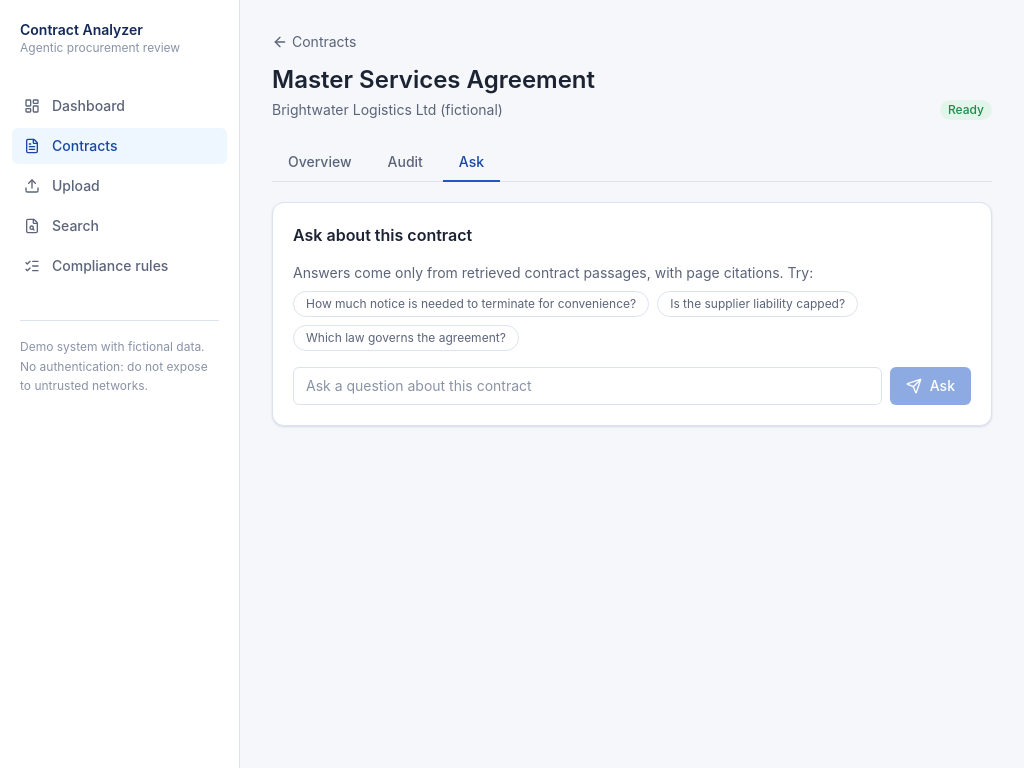
Test case: Ask tab › renders a grounded answer with citation chips
In the field labelled "question": (587, 386) [293,367,882,405], type "How much notice is needed?"
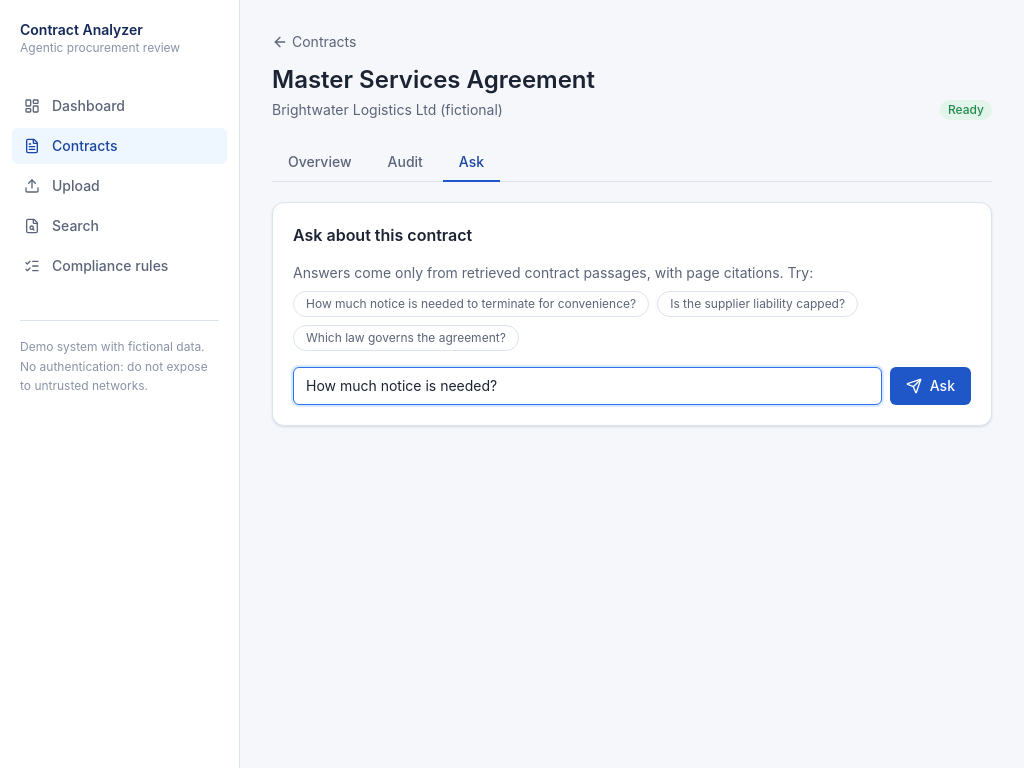
Click the button "Ask": (930, 386) [890,367,971,405]
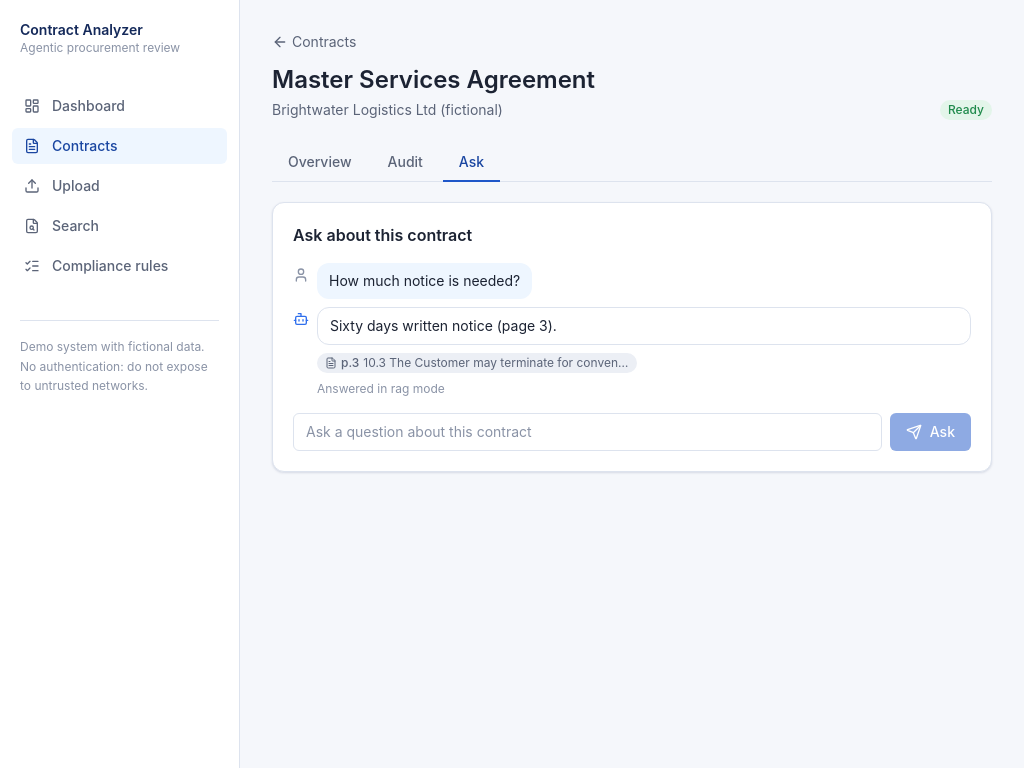
expect the text "Sixty days written notice (page 3)." is shown: met, box [317,307,971,345]
expect the text "p.3" is shown: met, box [341,355,359,371]
